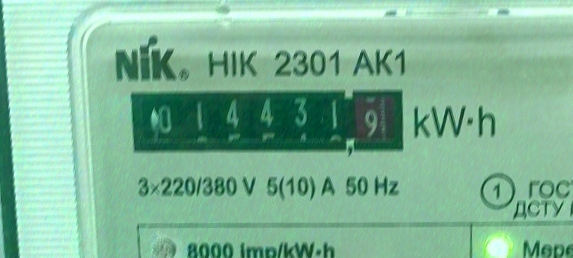0: (155, 101, 177, 134)
1: (192, 97, 211, 131), (329, 97, 343, 129)
3: (292, 95, 312, 128)
4: (223, 95, 245, 129), (258, 93, 277, 128)
9: (362, 106, 381, 137)
screen: (122, 73, 419, 168)
